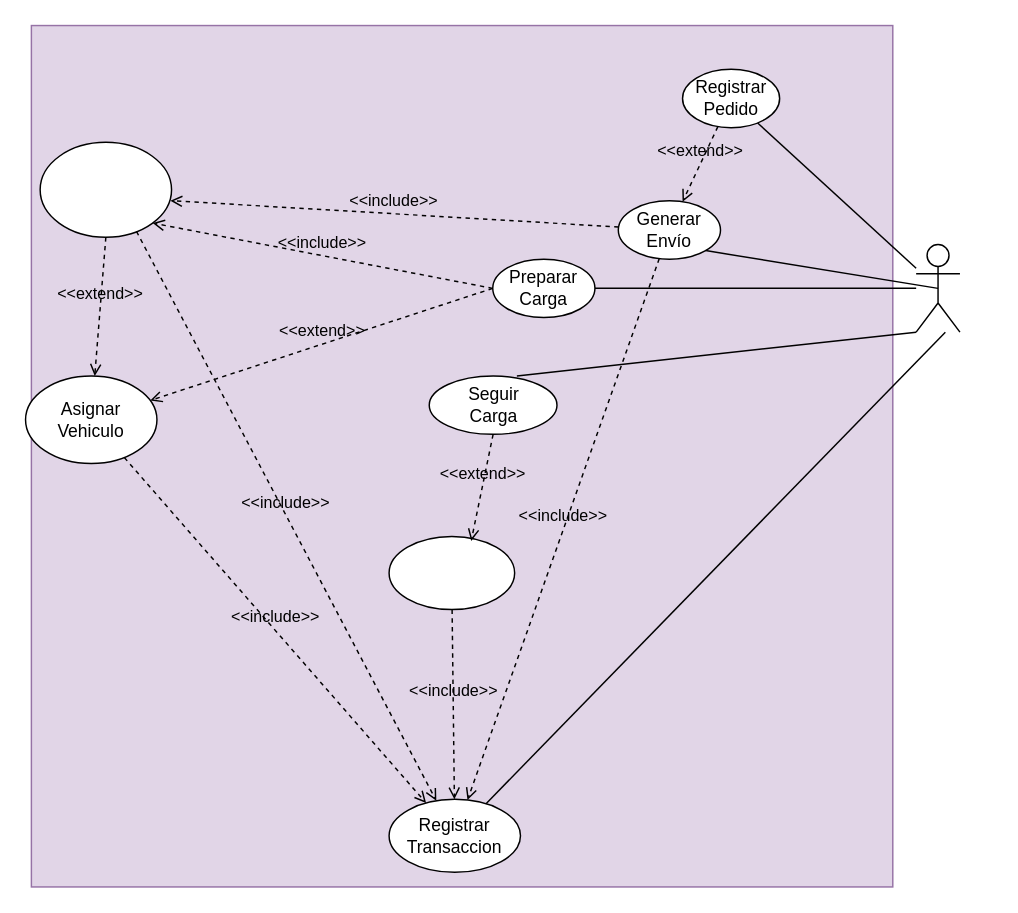
The diagram is 1018 pixels wide and 913 high, and some of its shapes have lost their labels. The centre of each missing label's shape, as x and y in pixels:
Administrativo: the point at 937,287
Asignar Conductor: the point at 105,189
Verifificar Recepción: the point at 451,572
